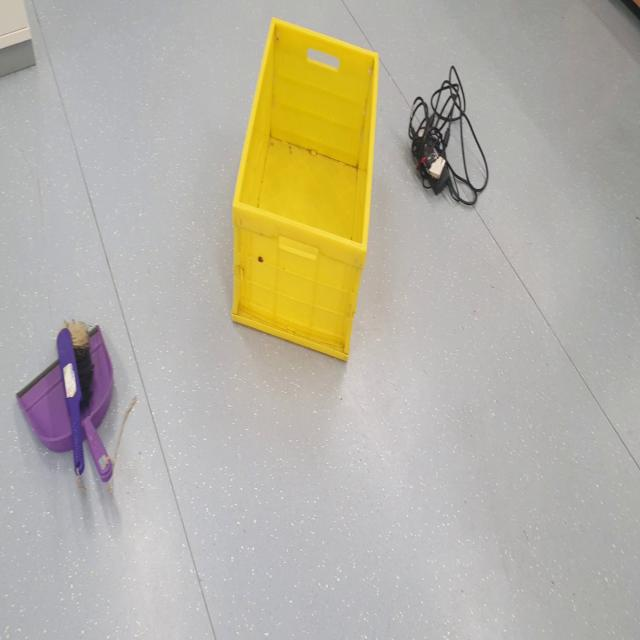box: (229, 11, 383, 410)
